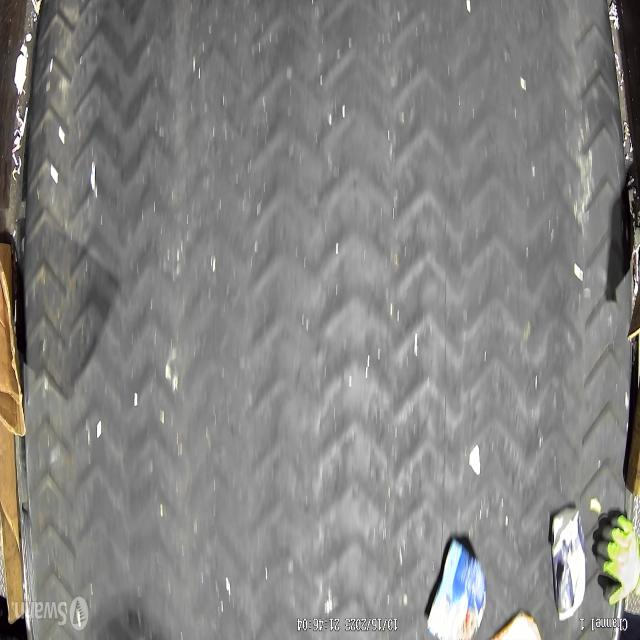can: (427, 538, 487, 640)
